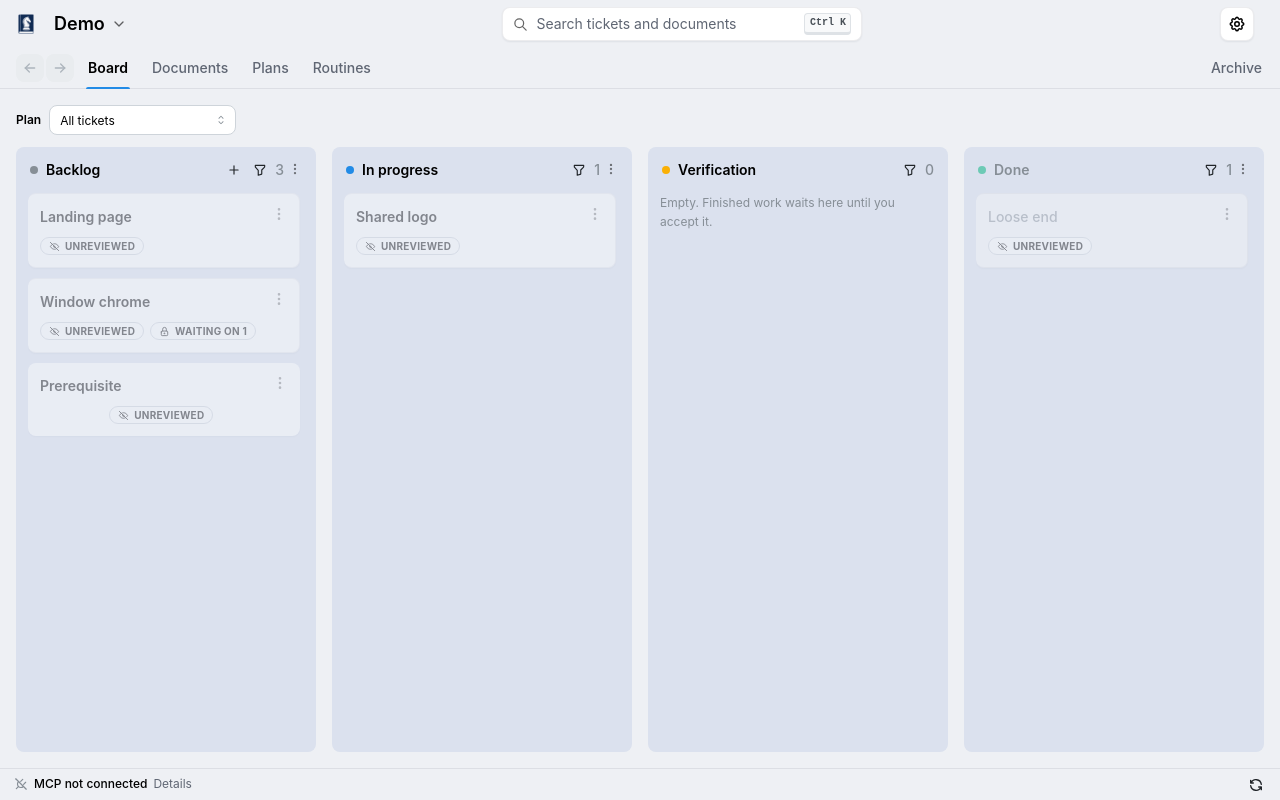
Test case: the plan filter › counts only matching tickets in each column, and says what the filter hides
Step 1. Click the dropdown labelled "Plan" → (143, 120), box x1=49 y1=105 x2=236 y2=135
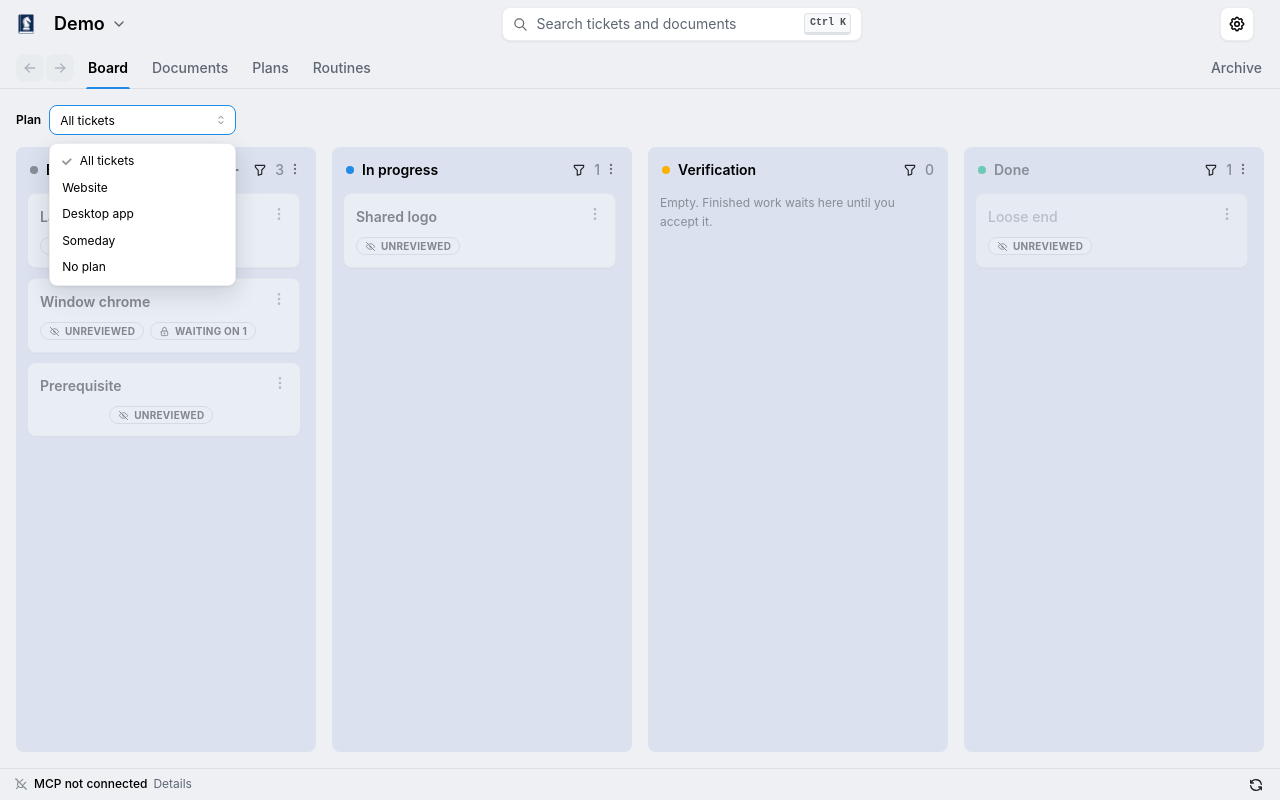
Step 2. Click the option "Website" → (85, 187), box x1=62 y1=180 x2=108 y2=195
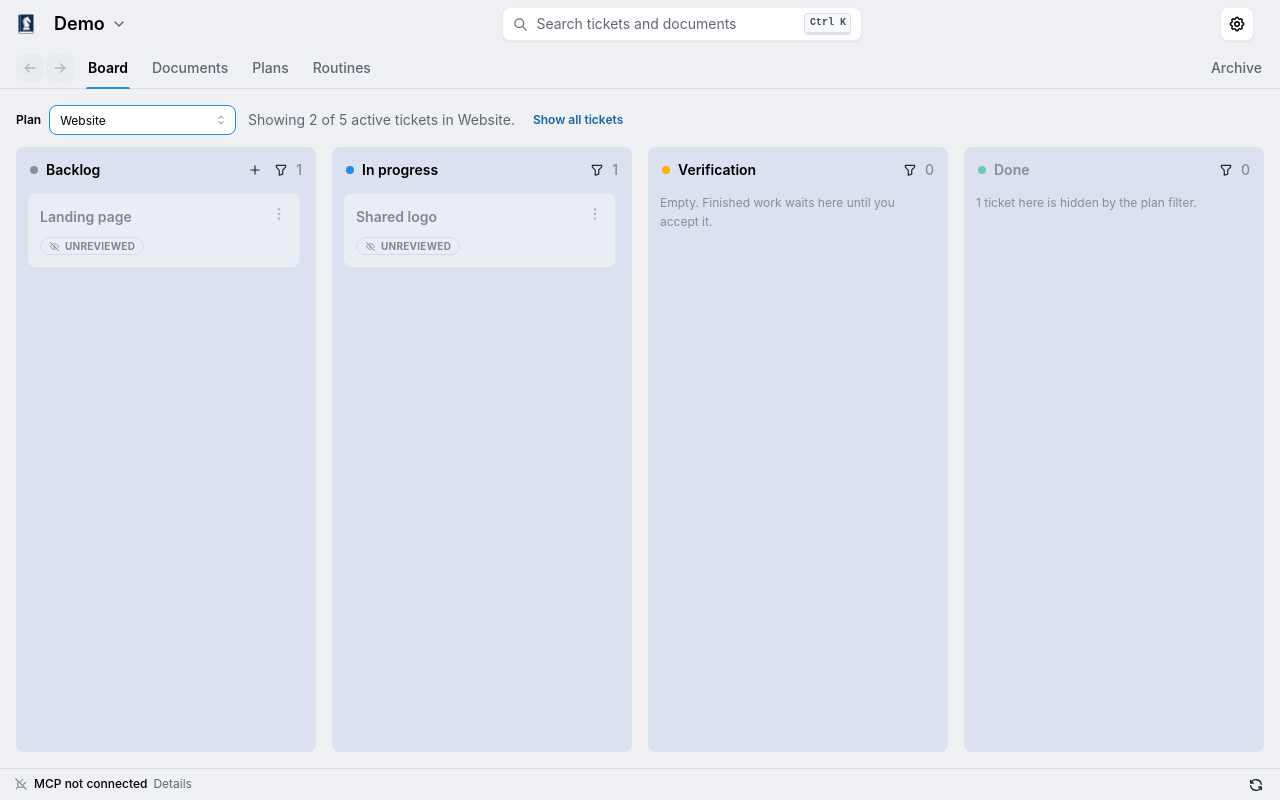
Result: the text named "1 in Backlog" is shown at x1=296 y1=160 x2=302 y2=180
Result: the text named "0 in Done" is shown at x1=1241 y1=160 x2=1250 y2=180
Result: the text "1 ticket here is hidden by the plan filter." is shown at x1=976 y1=195 x2=1197 y2=210
